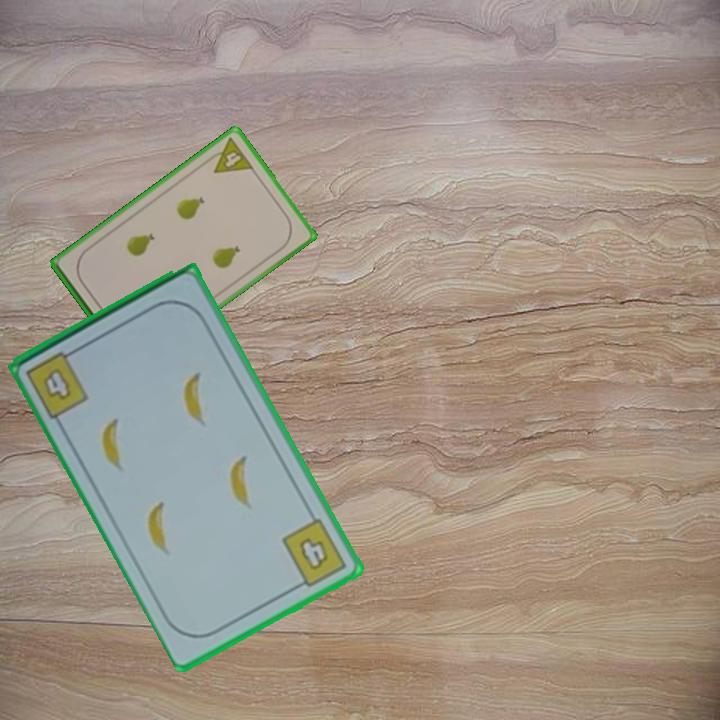4b: (278, 514, 350, 592), (22, 344, 92, 421)
4p: (202, 134, 256, 176)
